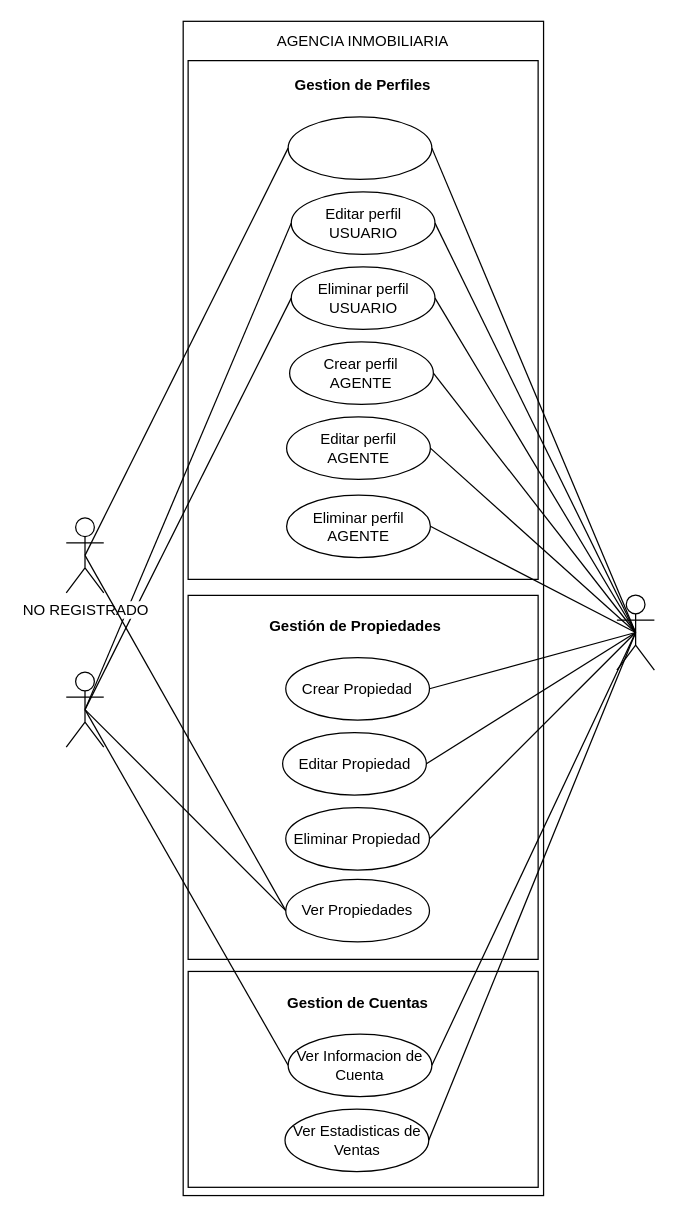
Image size: 688x1219. Some labels were removed from this diagram. The box of each missing label's shape, as (x1, y1, x2, y2) in pixels:
AGENTE: (616, 594, 654, 670)
Crear perfil USUARIO: (287, 116, 432, 179)
USUARIO: (65, 671, 104, 747)
